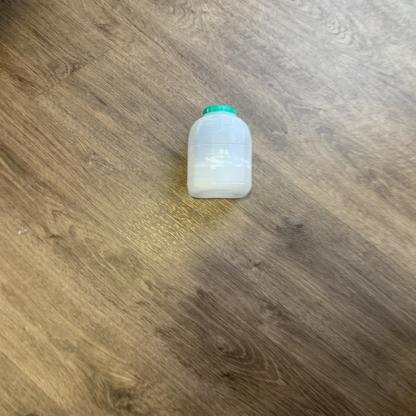trash: (185, 106, 257, 198)
